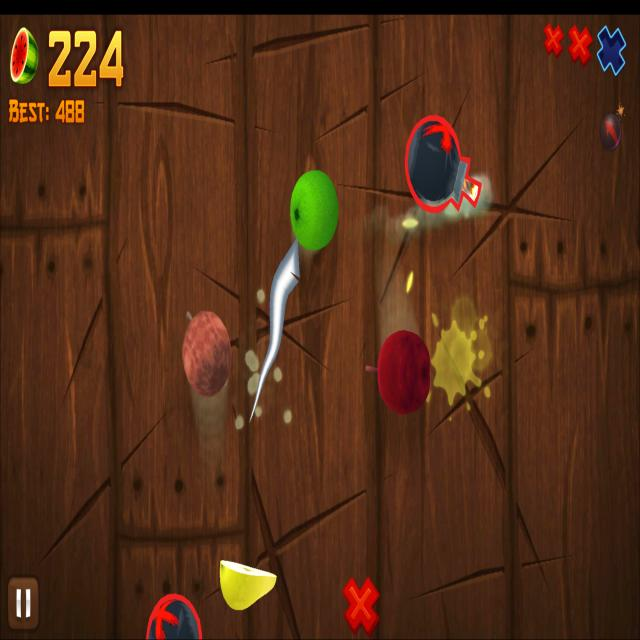bomb: (404, 114, 483, 213), (146, 592, 202, 640)
fruit: (377, 331, 431, 416), (181, 310, 231, 397), (290, 169, 338, 249)
